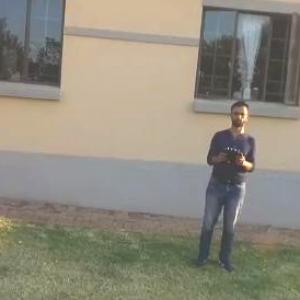follow: (188, 95, 258, 276)
